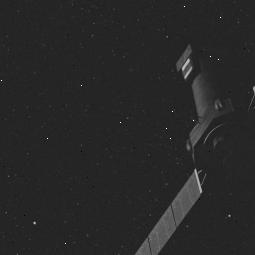xmm_newton: (162, 48, 246, 221)
